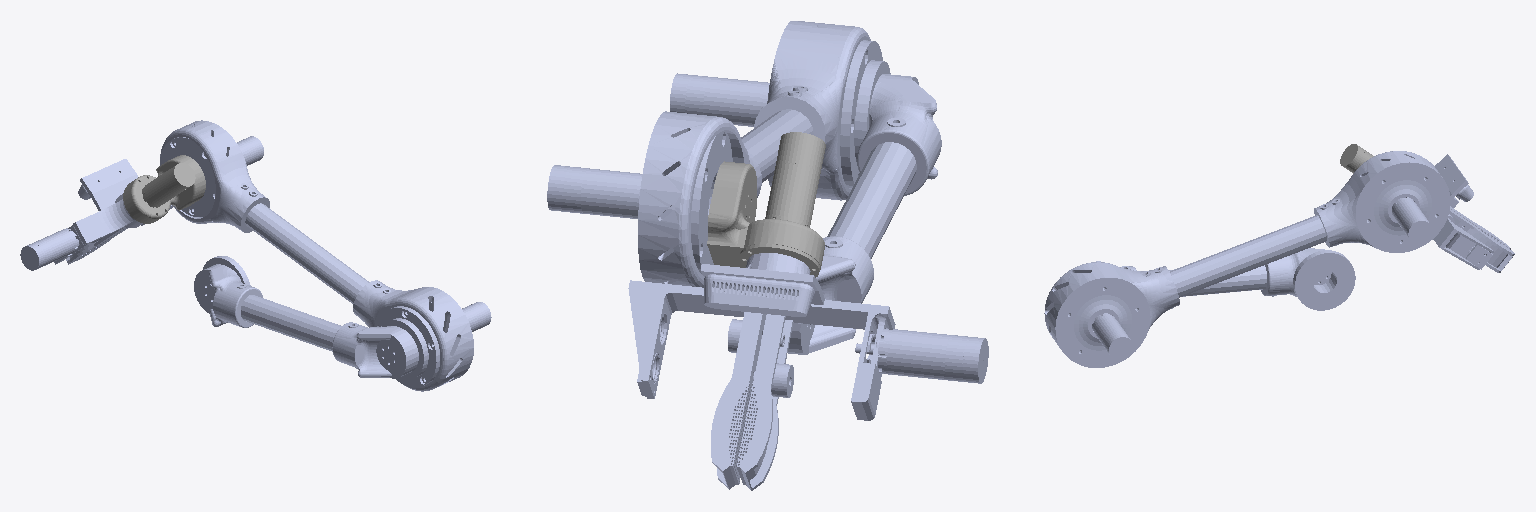
URDF robot description (manipulator):
<?xml version="1.0" encoding="utf-8"?>
<!-- This URDF was automatically created by SolidWorks to URDF Exporter! Originally created by Stephen Brawner (brawner@gmail.com) 
     Commit Version: 1.6.0-4-g7f85cfe  Build Version: 1.6.7995.38578
     For more information, please see http://wiki.ros.org/sw_urdf_exporter -->
<robot
  name="manipulator">
  <link
    name="base_link">
    <inertial>
      <origin
        xyz="-4.743837915544E-07 2.08978815363636E-07 0.0398691291100305"
        rpy="0 0 0" />
      <mass
        value="1.26158792714375" />
      <inertia
        ixx="0.00175614754470773"
        ixy="5.03614641481078E-10"
        ixz="-5.92029157039739E-09"
        iyy="0.00175614401963759"
        iyz="4.98996166764941E-09"
        izz="0.00323785623040002" />
    </inertial>
    <visual>
      <origin
        xyz="0 0 0"
        rpy="0 0 0" />
      <geometry>
        <mesh
          filename="package://manipulator/meshes/base_link.STL" />
      </geometry>
      <material
        name="">
        <color
          rgba="0.792156862745098 0.819607843137255 0.933333333333333 1" />
      </material>
    </visual>
    <collision>
      <origin
        xyz="0 0 0"
        rpy="0 0 0" />
      <geometry>
        <mesh
          filename="package://manipulator/meshes/base_link.STL" />
      </geometry>
    </collision>
  </link>
  <link
    name="link_1">
    <inertial>
      <origin
        xyz="0.0149258535370633 0.00446067865895465 0.168244863347586"
        rpy="0 0 0" />
      <mass
        value="1.58252995063954" />
      <inertia
        ixx="0.00367812068420756"
        ixy="0.000197509197407523"
        ixz="-0.000570515284281302"
        iyy="0.00307651113357738"
        iyz="-0.000170548507997464"
        izz="0.00243728557277392" />
    </inertial>
    <visual>
      <origin
        xyz="0 0 0"
        rpy="0 0 0" />
      <geometry>
        <mesh
          filename="package://manipulator/meshes/link_1.STL" />
      </geometry>
      <material
        name="">
        <color
          rgba="0.792156862745098 0.819607843137255 0.933333333333333 1" />
      </material>
    </visual>
    <collision>
      <origin
        xyz="0 0 0"
        rpy="0 0 0" />
      <geometry>
        <mesh
          filename="package://manipulator/meshes/link_1.STL" />
      </geometry>
    </collision>
  </link>
  <joint
    name="joint_1"
    type="revolute">
    <origin
      xyz="0 0 0"
      rpy="0 0 0" />
    <parent
      link="base_link" />
    <child
      link="link_1" />
    <axis
      xyz="0 0 1" />
    <limit
      lower="-3.14"
      upper="3.14"
      effort="0"
      velocity="0" />
  </joint>
  <link
    name="link_2">
    <inertial>
      <origin
        xyz="-0.174883405490475 0.0063906897068142 0.00767280405611698"
        rpy="0 0 0" />
      <mass
        value="0.563584848829252" />
      <inertia
        ixx="0.0003348452374415"
        ixy="1.8319476028181E-05"
        ixz="1.8068947894986E-11"
        iyy="0.000830253223733048"
        iyz="-1.23818201394263E-10"
        izz="0.000954579698356585" />
    </inertial>
    <visual>
      <origin
        xyz="0 0 0"
        rpy="0 0 0" />
      <geometry>
        <mesh
          filename="package://manipulator/meshes/link_2.STL" />
      </geometry>
      <material
        name="">
        <color
          rgba="0.792156862745098 0.819607843137255 0.933333333333333 1" />
      </material>
    </visual>
    <collision>
      <origin
        xyz="0 0 0"
        rpy="0 0 0" />
      <geometry>
        <mesh
          filename="package://manipulator/meshes/link_2.STL" />
      </geometry>
    </collision>
  </link>
  <joint
    name="joint_2"
    type="revolute">
    <origin
      xyz="-0.0589237850211093 -0.0176135617858798 0.196439999999998"
      rpy="1.5707963267949 0 1.86126299785025" />
    <parent
      link="link_1" />
    <child
      link="link_2" />
    <axis
      xyz="0 0 -1" />
    <limit
      lower="0"
      upper="3.14"
      effort="0"
      velocity="0" />
  </joint>
  <link
    name="link_3">
    <inertial>
      <origin
        xyz="-0.0839733696945522 0.0681689753013363 0.250999435788853"
        rpy="0 0 0" />
      <mass
        value="1.68158687764889" />
      <inertia
        ixx="0.00504091068027892"
        ixy="1.08101033069321E-05"
        ixz="4.35187158816721E-05"
        iyy="0.00353441502010039"
        iyz="-0.000395361521383045"
        izz="0.00218512259624916" />
    </inertial>
    <visual>
      <origin
        xyz="0 0 0"
        rpy="0 0 0" />
      <geometry>
        <mesh
          filename="package://manipulator/meshes/link_3.STL" />
      </geometry>
      <material
        name="">
        <color
          rgba="0.792156862745098 0.819607843137255 0.933333333333333 1" />
      </material>
    </visual>
    <collision>
      <origin
        xyz="0 0 0"
        rpy="0 0 0" />
      <geometry>
        <mesh
          filename="package://manipulator/meshes/link_3.STL" />
      </geometry>
    </collision>
  </link>
  <joint
    name="joint_3"
    type="revolute">
    <origin
      xyz="-0.349766547153894 0.0127813337346238 0"
      rpy="0 1.5707963267949 0" />
    <parent
      link="link_2" />
    <child
      link="link_3" />
    <axis
      xyz="1 0 0" />
    <limit
      lower="-6.28"
      upper="0"
      effort="0"
      velocity="0" />
  </joint>
  <link
    name="link_4">
    <inertial>
      <origin
        xyz="-0.00396437330824225 -0.00335656550649432 -0.0138879516826375"
        rpy="0 0 0" />
      <mass
        value="0.279984808714352" />
      <inertia
        ixx="0.000207044022235891"
        ixy="-8.08620638254851E-06"
        ixz="3.37117202629559E-05"
        iyy="0.000209746991677377"
        iyz="2.84970943544508E-05"
        izz="0.000171797316469416" />
    </inertial>
    <visual>
      <origin
        xyz="0 0 0"
        rpy="0 0 0" />
      <geometry>
        <mesh
          filename="package://manipulator/meshes/link_4.STL" />
      </geometry>
      <material
        name="">
        <color
          rgba="0.698039215686274 0.698039215686274 0.698039215686274 1" />
      </material>
    </visual>
    <collision>
      <origin
        xyz="0 0 0"
        rpy="0 0 0" />
      <geometry>
        <mesh
          filename="package://manipulator/meshes/link_4.STL" />
      </geometry>
    </collision>
  </link>
  <joint
    name="joint_4"
    type="revolute">
    <origin
      xyz="0 0.120795067593268 0.44489274173121"
      rpy="0 1.5707963267949 0" />
    <parent
      link="link_3" />
    <child
      link="link_4" />
    <axis
      xyz="0 0 1" />
    <limit
      lower="-3.14"
      upper="3.14"
      effort="0"
      velocity="0" />
  </joint>
  <link
    name="link_5">
    <inertial>
      <origin
        xyz="-0.0631049485055772 -0.0889500876207666 -0.117064136850921"
        rpy="0 0 0" />
      <mass
        value="0.445153140088307" />
      <inertia
        ixx="0.000274094446182845"
        ixy="-3.30773324406906E-05"
        ixz="0.000139501198705416"
        iyy="0.000858613379789018"
        iyz="-1.51340224951864E-05"
        izz="0.000835381695594303" />
    </inertial>
    <visual>
      <origin
        xyz="0 0 0"
        rpy="0 0 0" />
      <geometry>
        <mesh
          filename="package://manipulator/meshes/link_5.STL" />
      </geometry>
      <material
        name="">
        <color
          rgba="0.792156862745098 0.819607843137255 0.933333333333333 1" />
      </material>
    </visual>
    <collision>
      <origin
        xyz="0 0 0"
        rpy="0 0 0" />
      <geometry>
        <mesh
          filename="package://manipulator/meshes/link_5.STL" />
      </geometry>
    </collision>
  </link>
  <joint
    name="joint_5"
    type="revolute">
    <origin
      xyz="0.0475438829920029 0.0402600197471117 0.00549999999999323"
      rpy="0 1.28032965573954 0" />
    <parent
      link="link_4" />
    <child
      link="link_5" />
    <axis
      xyz="-0.218564021615717 -0.646228246342021 -0.731176327628897" />
    <limit
      lower="-3.14"
      upper="3.14"
      effort="0"
      velocity="0" />
  </joint>
  <link
    name="link_6">
    <inertial>
      <origin
        xyz="-1.53672751190825E-08 1.37734778027365E-08 -0.0458100316941801"
        rpy="0 0 0" />
      <mass
        value="0.0156031455954719" />
      <inertia
        ixx="1.35146476447596E-05"
        ixy="-2.96356967640183E-10"
        ixz="1.286858516959E-10"
        iyy="1.3514426991419E-05"
        iyz="-6.44123598726705E-11"
        izz="1.5061875624562E-06" />
    </inertial>
    <visual>
      <origin
        xyz="0 0 0"
        rpy="0 0 0" />
      <geometry>
        <mesh
          filename="package://manipulator/meshes/link_6.STL" />
      </geometry>
      <material
        name="">
        <color
          rgba="0.792156862745098 0.819607843137255 0.933333333333333 1" />
      </material>
    </visual>
    <collision>
      <origin
        xyz="0 0 0"
        rpy="0 0 0" />
      <geometry>
        <mesh
          filename="package://manipulator/meshes/link_6.STL" />
      </geometry>
    </collision>
  </link>
  <joint
    name="joint_6"
    type="revolute">
    <origin
      xyz="-0.0333725122311634 -0.114253153953276 -0.130847171307248"
      rpy="-3.14159265358979 1.28032965573961 3.14159265358979" />
    <parent
      link="link_5" />
    <child
      link="link_6" />
    <axis
      xyz="0 0 -1" />
    <limit
      lower="0"
      upper="10"
      effort="0"
      velocity="0" />
  </joint>
  <link
    name="link_7">
    <inertial>
      <origin
        xyz="7.65313491607467E-07 -3.74161015392893E-07 -0.0385405552273824"
        rpy="0 0 0" />
      <mass
        value="0.0157543709875629" />
      <inertia
        ixx="1.40004928900912E-05"
        ixy="-2.53486156184897E-10"
        ixz="-3.49587191185511E-10"
        iyy="1.40011200138394E-05"
        iyz="2.03591051059671E-10"
        izz="1.50794786871328E-06" />
    </inertial>
    <visual>
      <origin
        xyz="0 0 0"
        rpy="0 0 0" />
      <geometry>
        <mesh
          filename="package://manipulator/meshes/link_7.STL" />
      </geometry>
      <material
        name="">
        <color
          rgba="0.792156862745098 0.819607843137255 0.933333333333333 1" />
      </material>
    </visual>
    <collision>
      <origin
        xyz="0 0 0"
        rpy="0 0 0" />
      <geometry>
        <mesh
          filename="package://manipulator/meshes/link_7.STL" />
      </geometry>
    </collision>
  </link>
  <joint
    name="joint_7"
    type="revolute">
    <origin
      xyz="-0.0410222529877187 -0.136871142575247 -0.15643834277427"
      rpy="3.14159265358979 -1.28032965573961 0" />
    <parent
      link="link_5" />
    <child
      link="link_7" />
    <axis
      xyz="0 0 1" />
    <limit
      lower="-10"
      upper="0"
      effort="0"
      velocity="0" />
    <mimic
      joint="joint_6"
      multiplier="-1"
      offset="0" />
  </joint>
  <link
    name="link_8">
    <inertial>
      <origin
        xyz="0.0389414283701178 -0.0329757965501644 0.00477531130657782"
        rpy="0 0 0" />
      <mass
        value="0.0657970930356421" />
      <inertia
        ixx="4.25330956873951E-05"
        ixy="3.93690246189171E-05"
        ixz="-3.97125807063E-06"
        iyy="5.5687211021763E-05"
        iyz="3.36290131876431E-06"
        izz="9.53856903034168E-05" />
    </inertial>
    <visual>
      <origin
        xyz="0 0 0"
        rpy="0 0 0" />
      <geometry>
        <mesh
          filename="package://manipulator/meshes/link_8.STL" />
      </geometry>
      <material
        name="">
        <color
          rgba="0.792156862745098 0.819607843137255 0.933333333333333 1" />
      </material>
    </visual>
    <collision>
      <origin
        xyz="0 0 0"
        rpy="0 0 0" />
      <geometry>
        <mesh
          filename="package://manipulator/meshes/link_8.STL" />
      </geometry>
    </collision>
  </link>
  <joint
    name="joint_8"
    type="prismatic">
    <origin
      xyz="-0.0333725122311634 -0.114253153953276 -0.130847171307248"
      rpy="-3.14159265358979 1.28032965573961 3.14159265358979" />
    <parent
      link="link_5" />
    <child
      link="link_8" />
    <axis
      xyz="0 0 -1" />
    <limit
      lower="-0.042"
      upper="0"
      effort="0"
      velocity="0" />
    <mimic
      joint="joint_6"
      multiplier="-0.01"
      offset="0" />
  </joint>
  <link
    name="link_9">
    <inertial>
      <origin
        xyz="-0.0128701655009559 0.0108981859411117 -0.0151891110782429"
        rpy="0 0 0" />
      <mass
        value="0.0599258931002066" />
      <inertia
        ixx="3.72880562711355E-05"
        ixy="3.42339778850729E-05"
        ixz="-2.90054522617449E-06"
        iyy="4.87264351315064E-05"
        iyz="2.45613272001958E-06"
        izz="8.37508902972254E-05" />
    </inertial>
    <visual>
      <origin
        xyz="0 0 0"
        rpy="0 0 0" />
      <geometry>
        <mesh
          filename="package://manipulator/meshes/link_9.STL" />
      </geometry>
      <material
        name="">
        <color
          rgba="0.792156862745098 0.819607843137255 0.933333333333333 1" />
      </material>
    </visual>
    <collision>
      <origin
        xyz="0 0 0"
        rpy="0 0 0" />
      <geometry>
        <mesh
          filename="package://manipulator/meshes/link_9.STL" />
      </geometry>
    </collision>
  </link>
  <joint
    name="joint_9"
    type="prismatic">
    <origin
      xyz="-0.0410222529877187 -0.136871142575247 -0.15643834277427"
      rpy="3.14159265358979 -1.28032965573961 0" />
    <parent
      link="link_5" />
    <child
      link="link_9" />
    <axis
      xyz="0 0 1" />
    <limit
      lower="-0.042"
      upper="0"
      effort="0"
      velocity="0" />
    <mimic
      joint="joint_6"
      multiplier="-0.01"
      offset="0" />
  </joint>
</robot>

--- Facts derived from the render (not from the file) ---
The picture shows the robot from 3 angles, left to right: view 1: azimuth 30°, elevation 25°; view 2: azimuth 150°, elevation 25°; view 3: azimuth 270°, elevation 25°; orthographic projection.
Robot: manipulator — 10 links, 9 joints (7 revolute, 2 prismatic); root link base_link; default pose: all joints at 0.
Visible links, largest first — view 1: link_3, link_2, link_5, link_4; view 2: link_3, link_5, link_2, link_4, link_9, link_8; view 3: link_3, link_2, link_5, link_8, link_4.
Boxes of the visible links, box(x1,y1,x2,y2) form: link_3: box(160, 120, 491, 391); link_2: box(194, 256, 428, 379); link_5: box(20, 159, 173, 270); link_4: box(123, 155, 205, 223); link_3: box(547, 21, 882, 287); link_5: box(628, 253, 988, 420); link_2: box(788, 60, 941, 354); link_4: box(707, 132, 825, 277); link_9: box(737, 314, 793, 490); link_8: box(711, 312, 766, 489); link_3: box(1044, 151, 1450, 367); link_2: box(1096, 248, 1355, 310); link_5: box(1433, 154, 1493, 269); link_8: box(1448, 209, 1514, 272); link_4: box(1340, 144, 1373, 173).
Bounding box of the posed robot: 0.5291 × 0.6687 × 0.2618 m (x, y, z).
6 mesh visuals loaded from 10 distinct referenced files (6 binary STL); not drawn: 4 (reference not matched to a file when rendering).
